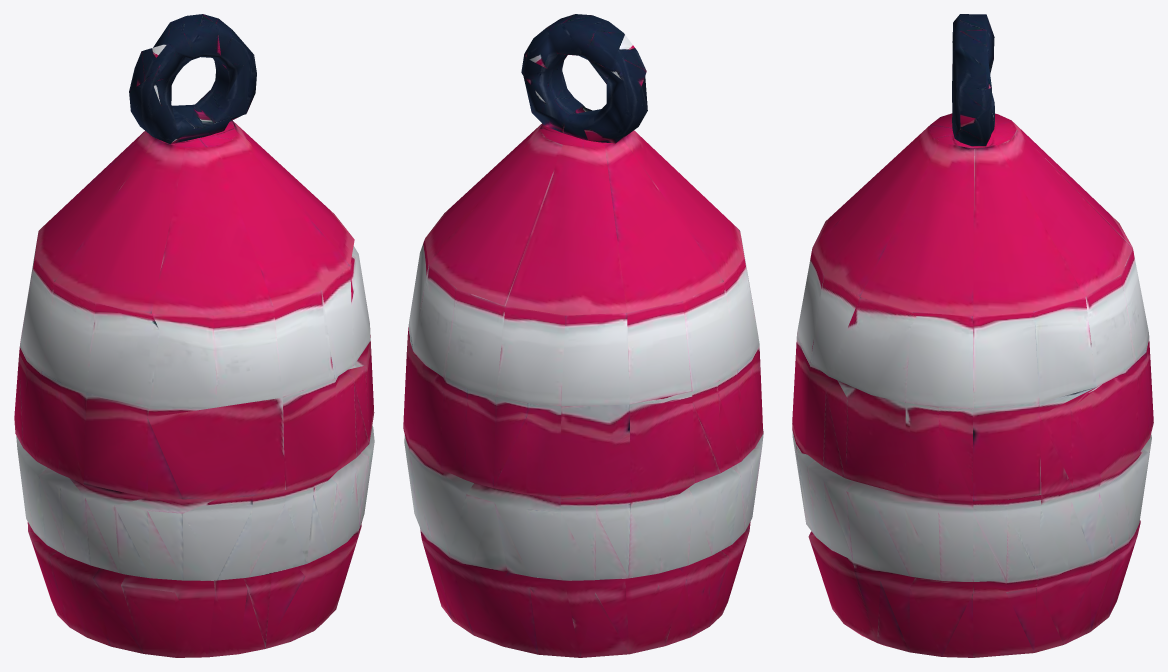
The model's file is buoy.glb.
The picture shows the model from 3 angles, left to right: view 1: azimuth 30°, elevation 25°; view 2: azimuth 150°, elevation 25°; view 3: azimuth 270°, elevation 25°; orthographic projection.
Size of the model in its own units: 0.5682 by 1 by 0.5658.
1 material, 1 textured.
